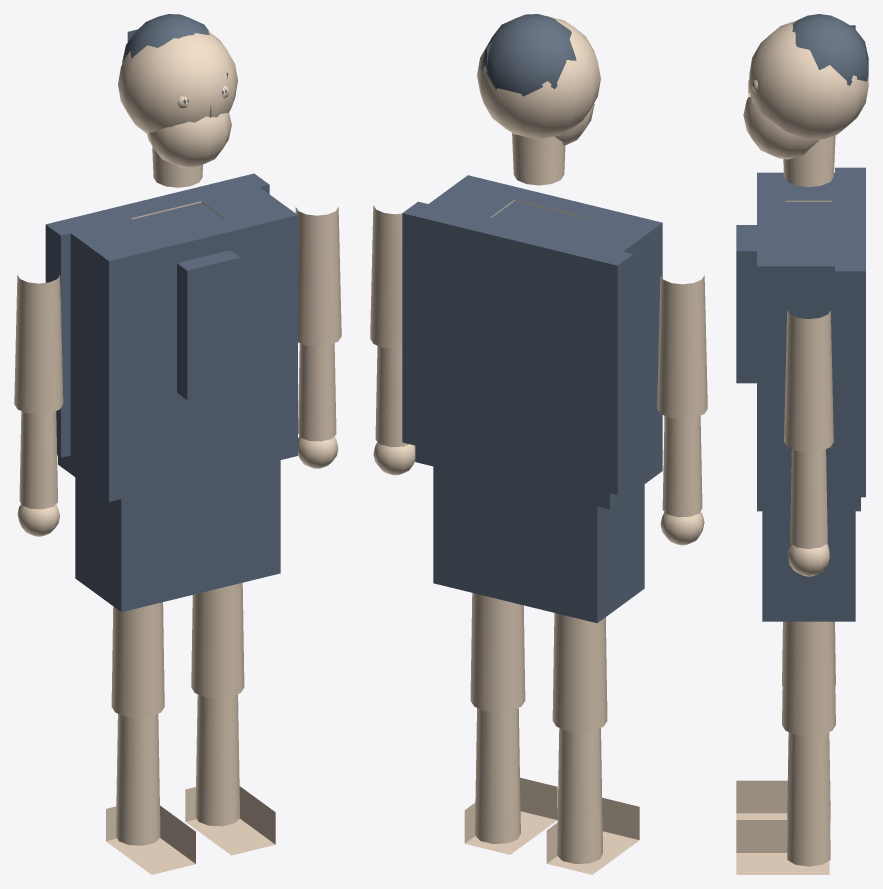
The model's file is body.glb.
The picture shows the model from 3 angles, left to right: view 1: azimuth 30°, elevation 25°; view 2: azimuth 150°, elevation 25°; view 3: azimuth 270°, elevation 25°; orthographic projection. The views are drawn at different scales.
Parts seen in each view (by area): view 1: Cloth, Skin, Hair; view 2: Cloth, Skin, Hair; view 3: Skin, Cloth, Hair.
Boxes of the visible parts, x1,y1,x2,y2 form: Cloth: [45, 173, 297, 612]; Skin: [14, 31, 341, 874]; Hair: [122, 14, 227, 78]; Cloth: [402, 175, 662, 623]; Skin: [370, 17, 707, 874]; Hair: [481, 14, 576, 96]; Skin: [736, 21, 868, 874]; Cloth: [736, 167, 865, 621]; Hair: [792, 14, 868, 85].
Bounding box in the file's own units: 0.7251 × 1.75 × 0.2551.
